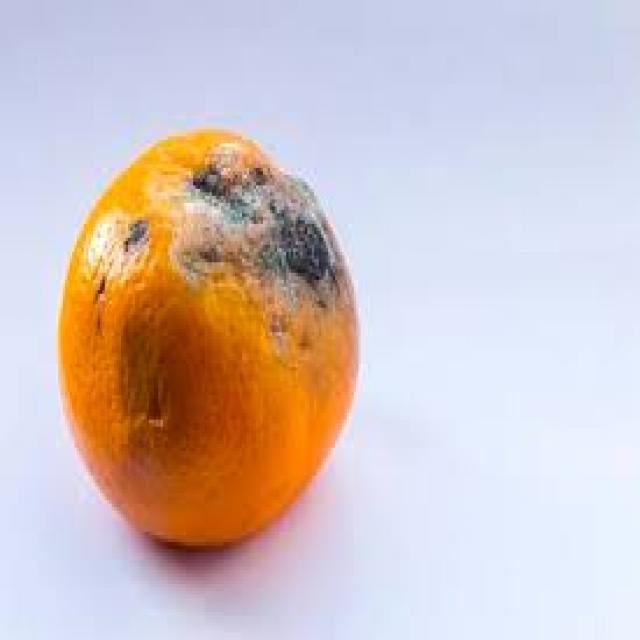organic waste: (54, 126, 356, 549)
